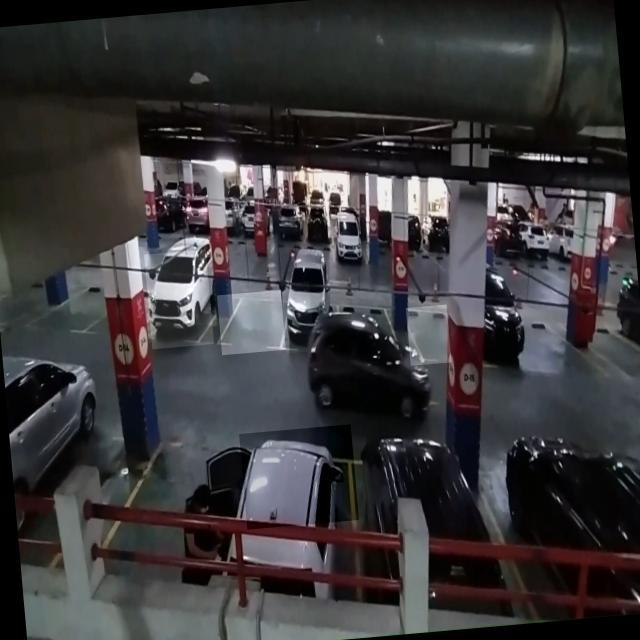empty: (217, 290, 286, 355), (405, 304, 451, 366), (280, 280, 314, 354)
occupied: (238, 424, 358, 529), (143, 248, 214, 348)
